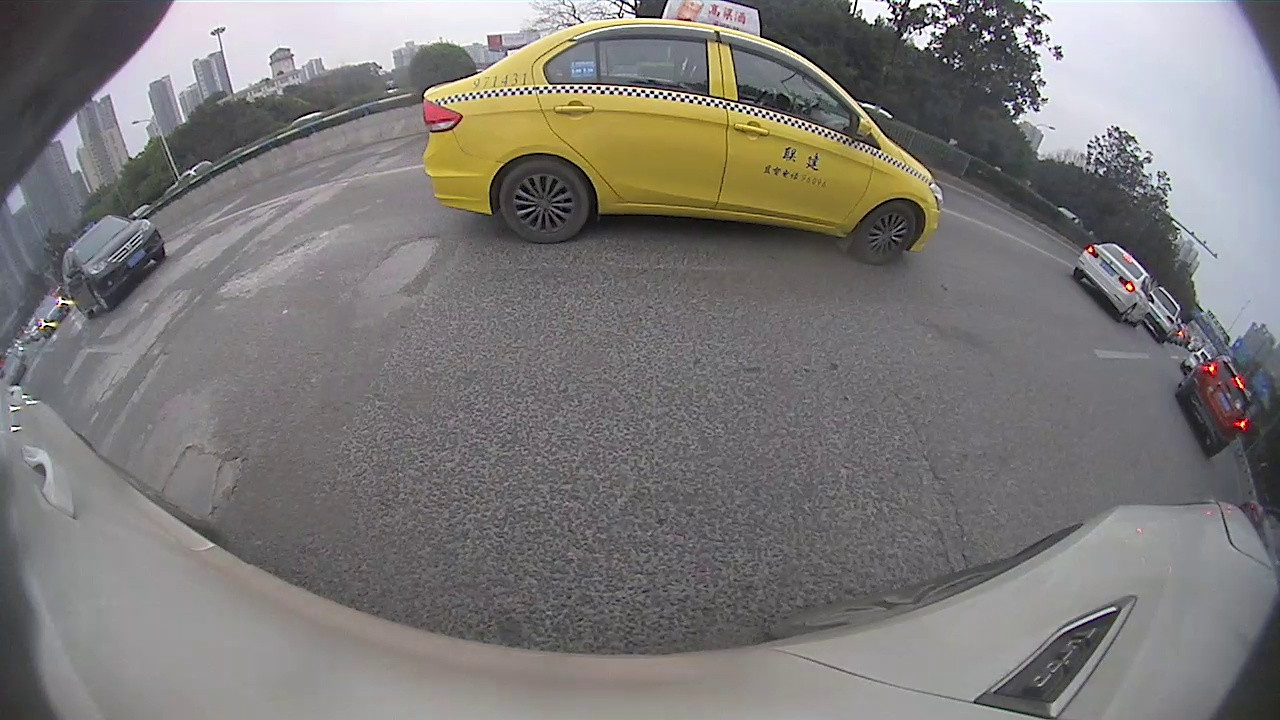car: (420, 1, 942, 264), (61, 214, 164, 317), (1177, 357, 1255, 459), (1070, 241, 1148, 326), (1143, 288, 1181, 343), (32, 293, 69, 340)
front: (853, 201, 917, 266), (91, 282, 113, 314)
rear: (497, 154, 591, 246), (1119, 306, 1137, 325)
